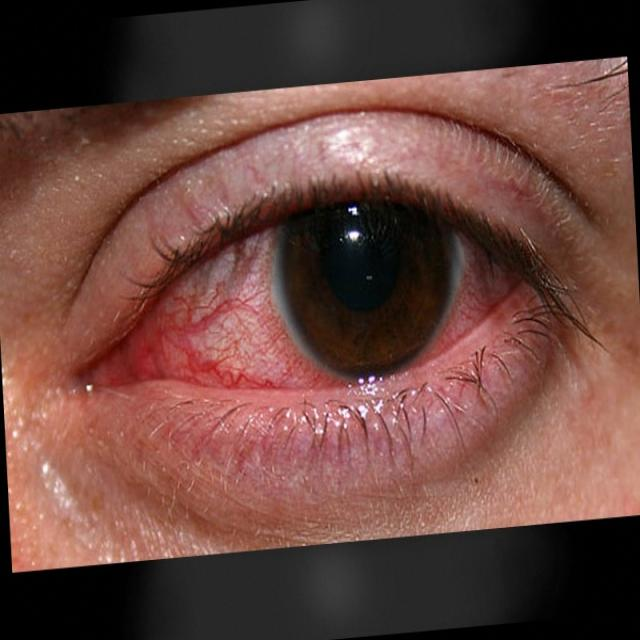Keratitis: (47, 148, 588, 455)
